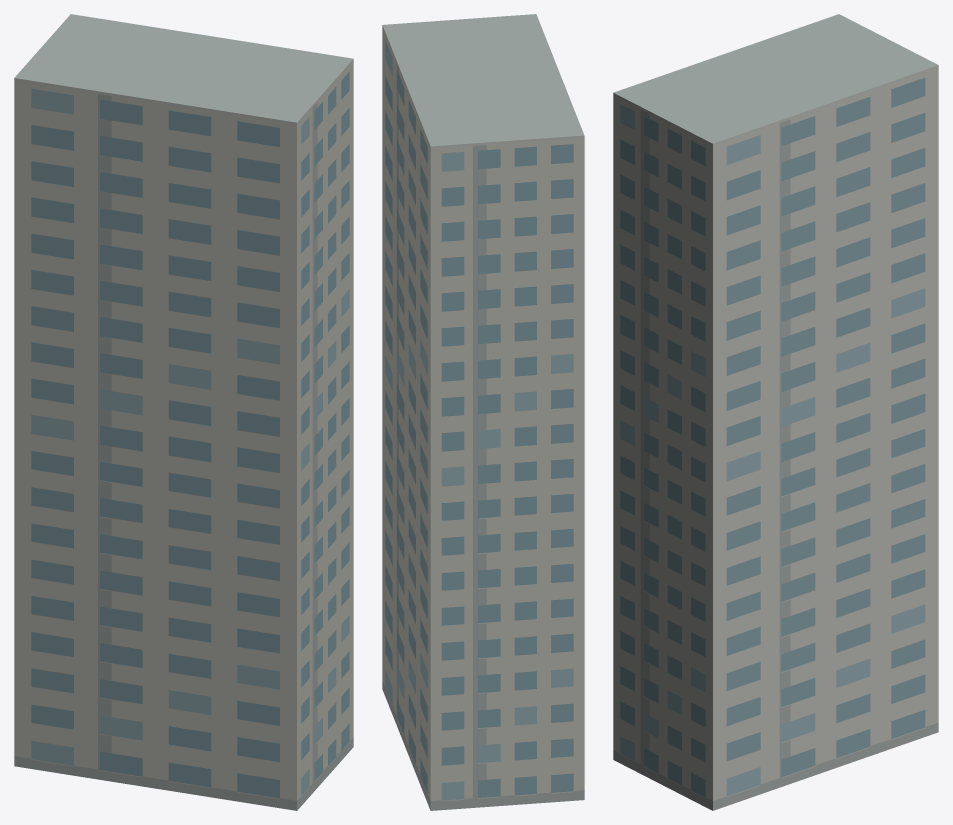
Rendered from residential-f7124962-0a5c-48cf-9906-c7b7360e6aaa.glb.
The picture shows the model from 3 angles, left to right: view 1: azimuth 30°, elevation 25°; view 2: azimuth 150°, elevation 25°; view 3: azimuth 270°, elevation 25°; orthographic projection. The views are drawn at different scales.
Visible parts, largest first — view 1: residential-f7124962-0a5c-48cf-9906-c7b7360e6aaa.tmp; view 2: residential-f7124962-0a5c-48cf-9906-c7b7360e6aaa.tmp; view 3: residential-f7124962-0a5c-48cf-9906-c7b7360e6aaa.tmp.
Part boxes in pixels (x1,y1,x2,y2): residential-f7124962-0a5c-48cf-9906-c7b7360e6aaa.tmp: (14,14,353,810); residential-f7124962-0a5c-48cf-9906-c7b7360e6aaa.tmp: (382,14,584,810); residential-f7124962-0a5c-48cf-9906-c7b7360e6aaa.tmp: (613,14,938,810).
Bounding box in the file's own units: 26.29 × 63 × 27.86.
